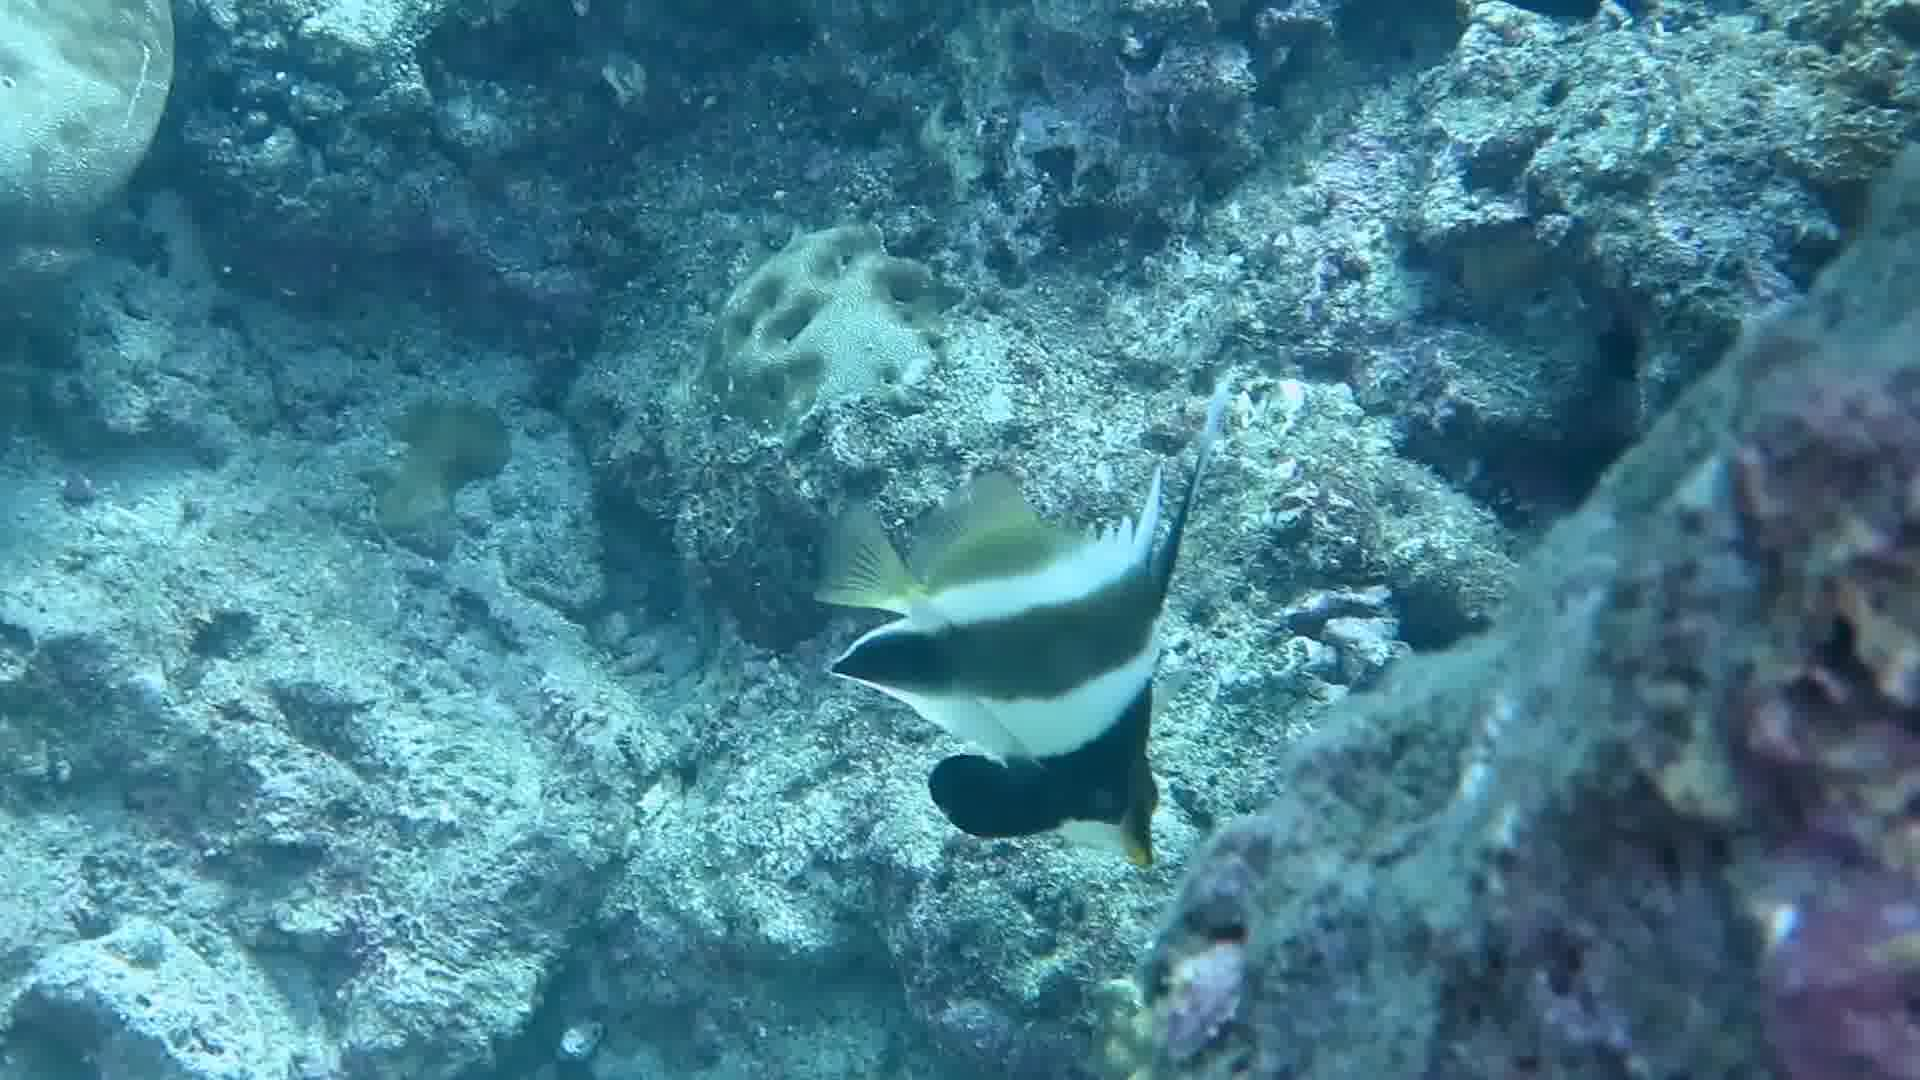Heniochus chrysostomus: (746, 418, 1308, 953)
